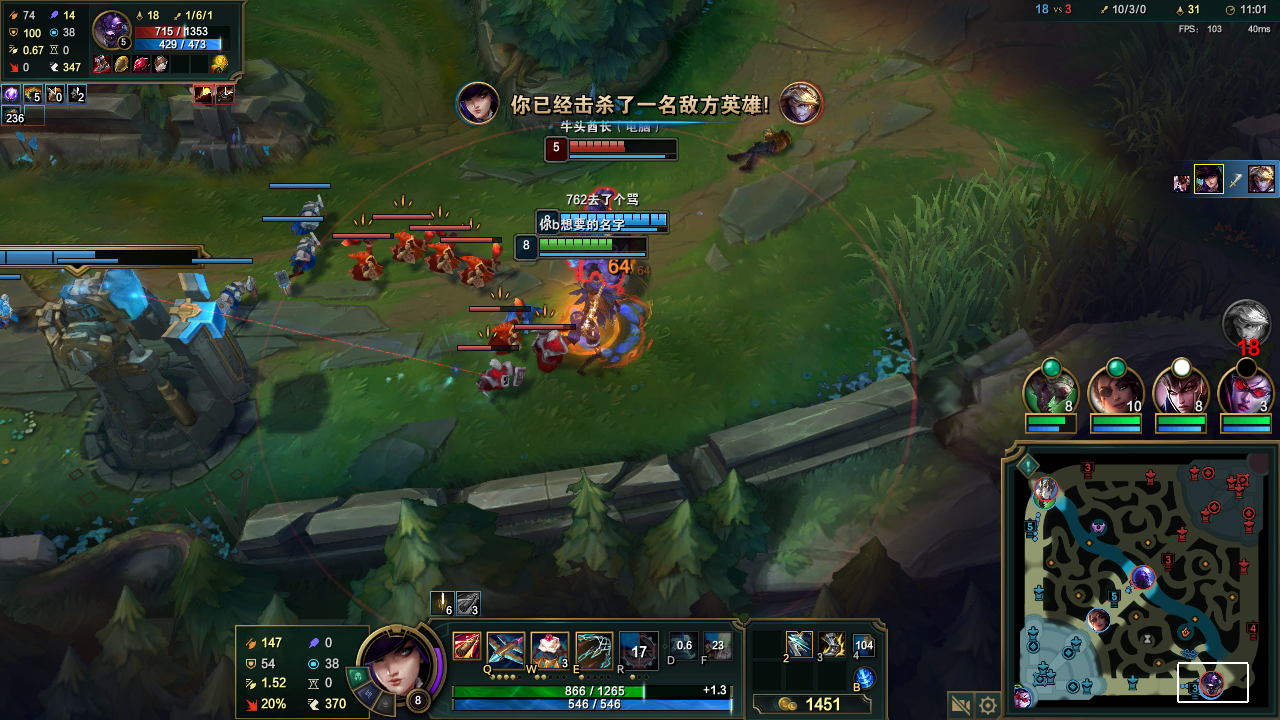DFYX: (568, 141, 677, 152)
WFXB: (525, 327, 567, 378), (477, 352, 517, 399), (283, 193, 325, 231), (487, 324, 532, 359), (286, 233, 319, 274), (393, 226, 426, 265), (349, 248, 379, 284), (425, 236, 456, 265), (220, 281, 251, 309), (468, 255, 495, 283), (4, 301, 19, 319)
